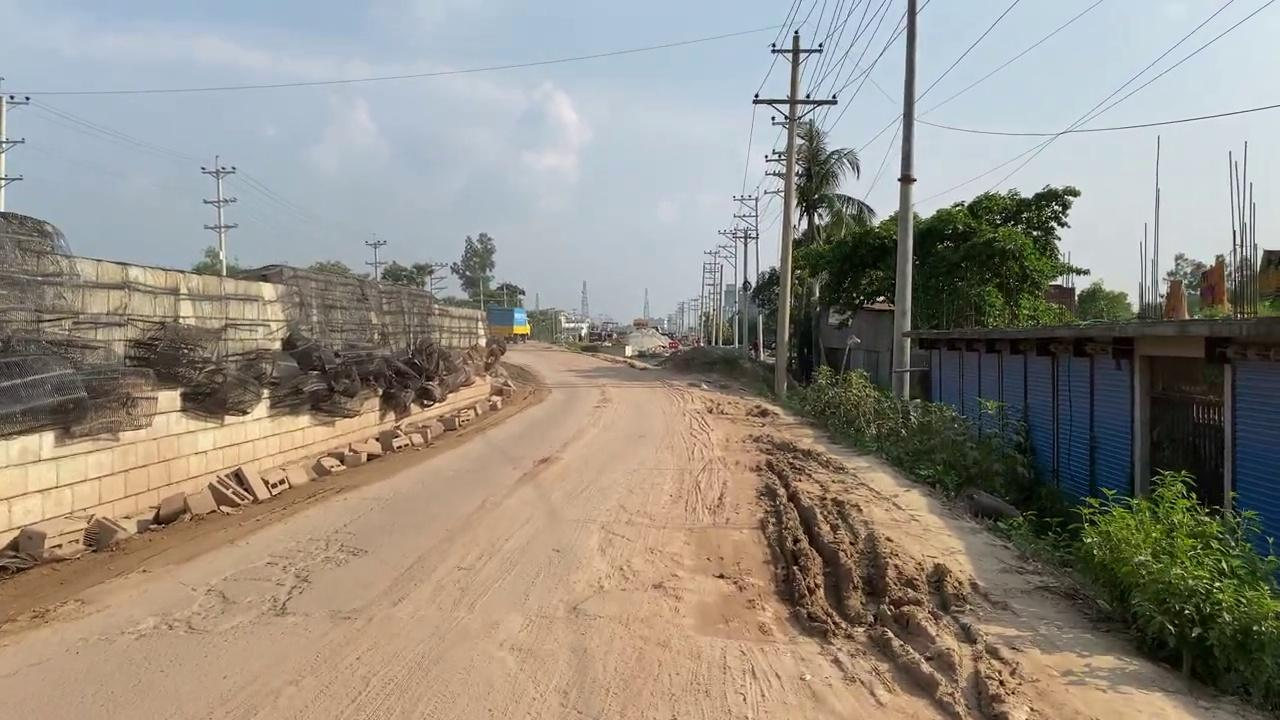Muddy road: (1, 338, 1266, 718)
Pole: (751, 29, 837, 401), (889, 0, 917, 403), (772, 30, 801, 401)
Traffic-sign: (450, 230, 496, 310)
Tree: (555, 312, 617, 345), (485, 304, 531, 343), (556, 313, 588, 343)
Upstairs: (0, 210, 507, 554)
